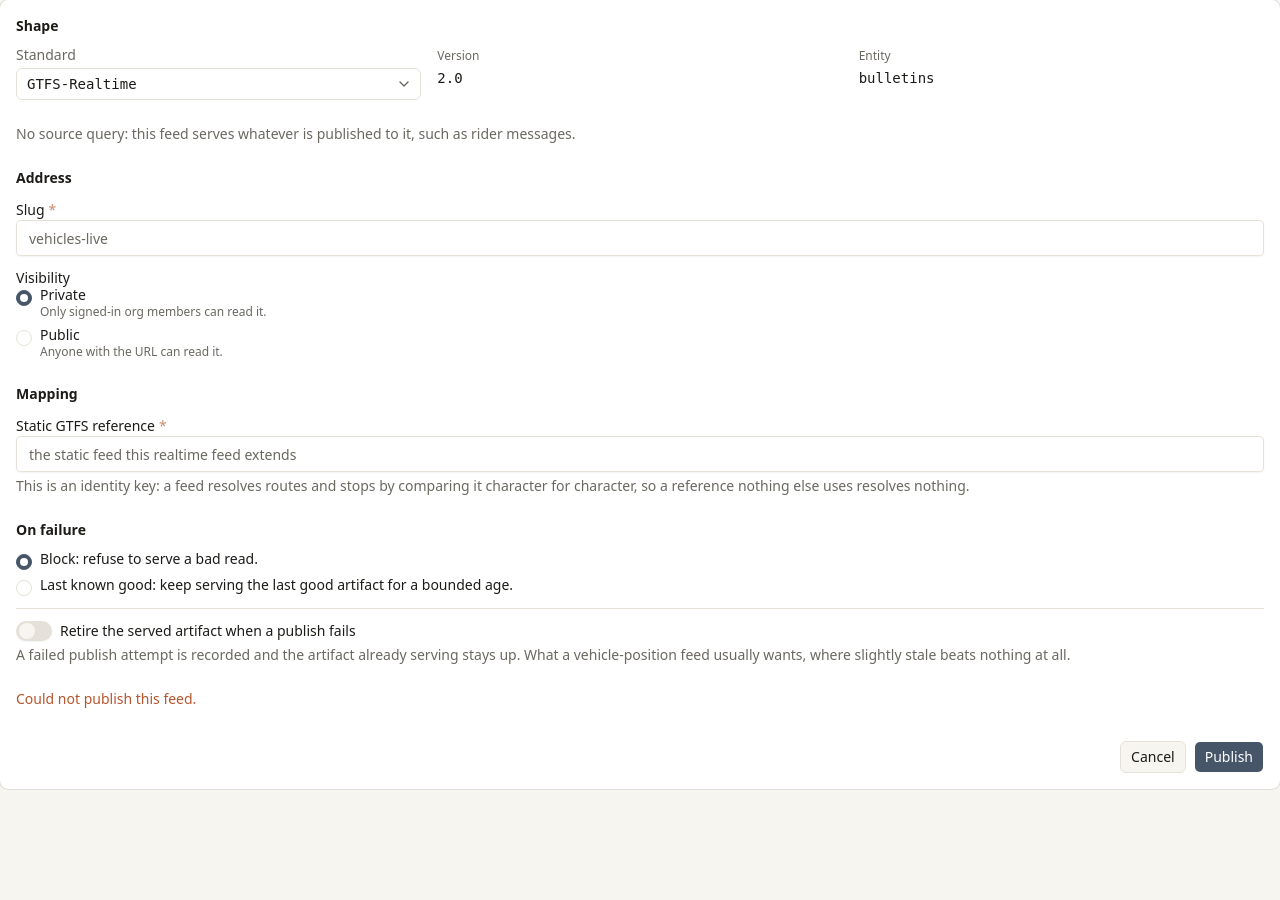
Test case: a refusal the server sent back › stays on screen beside a refusal the form finds on its own
The image size is (1280, 900).
Type "bulletins" into the field labelled "Slug" at (640, 238), box [16,220,1264,256]
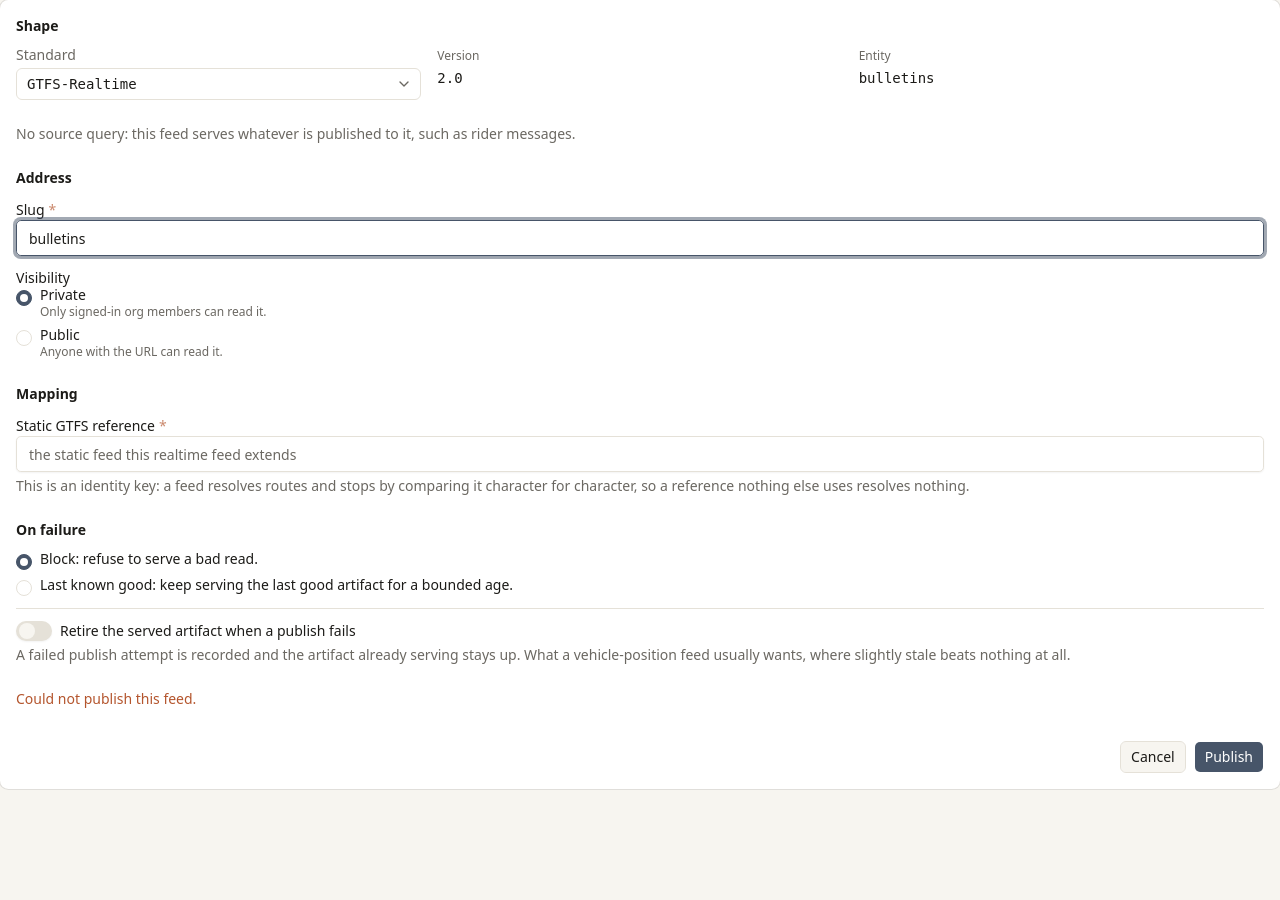
Click the button "Publish" at (1229, 757), box [1194,741,1264,773]
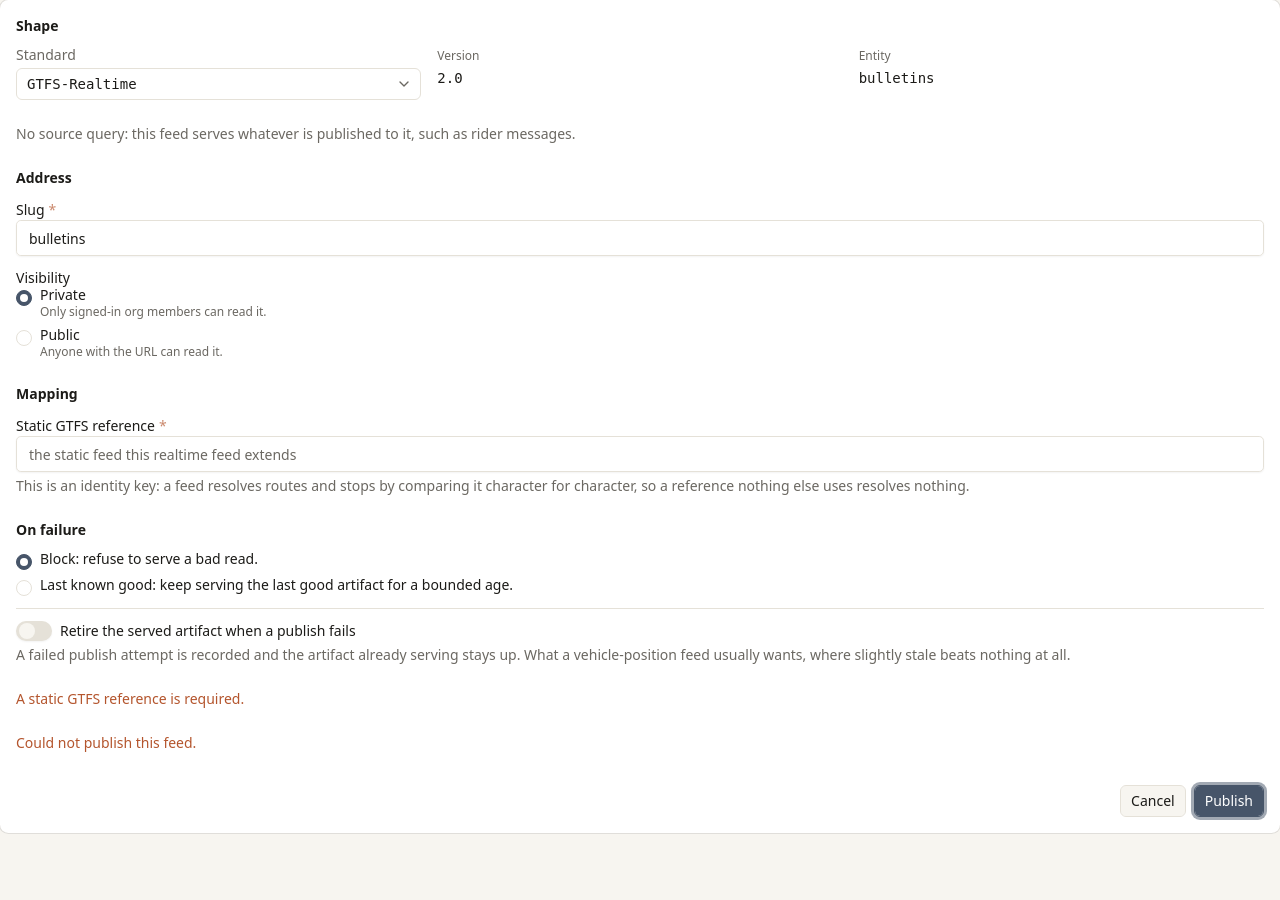
Expected: the text "Could not publish this feed." is shown, [16,733,196,752]
Expected: the text "A static GTFS reference is required." is shown, [16,689,244,708]
